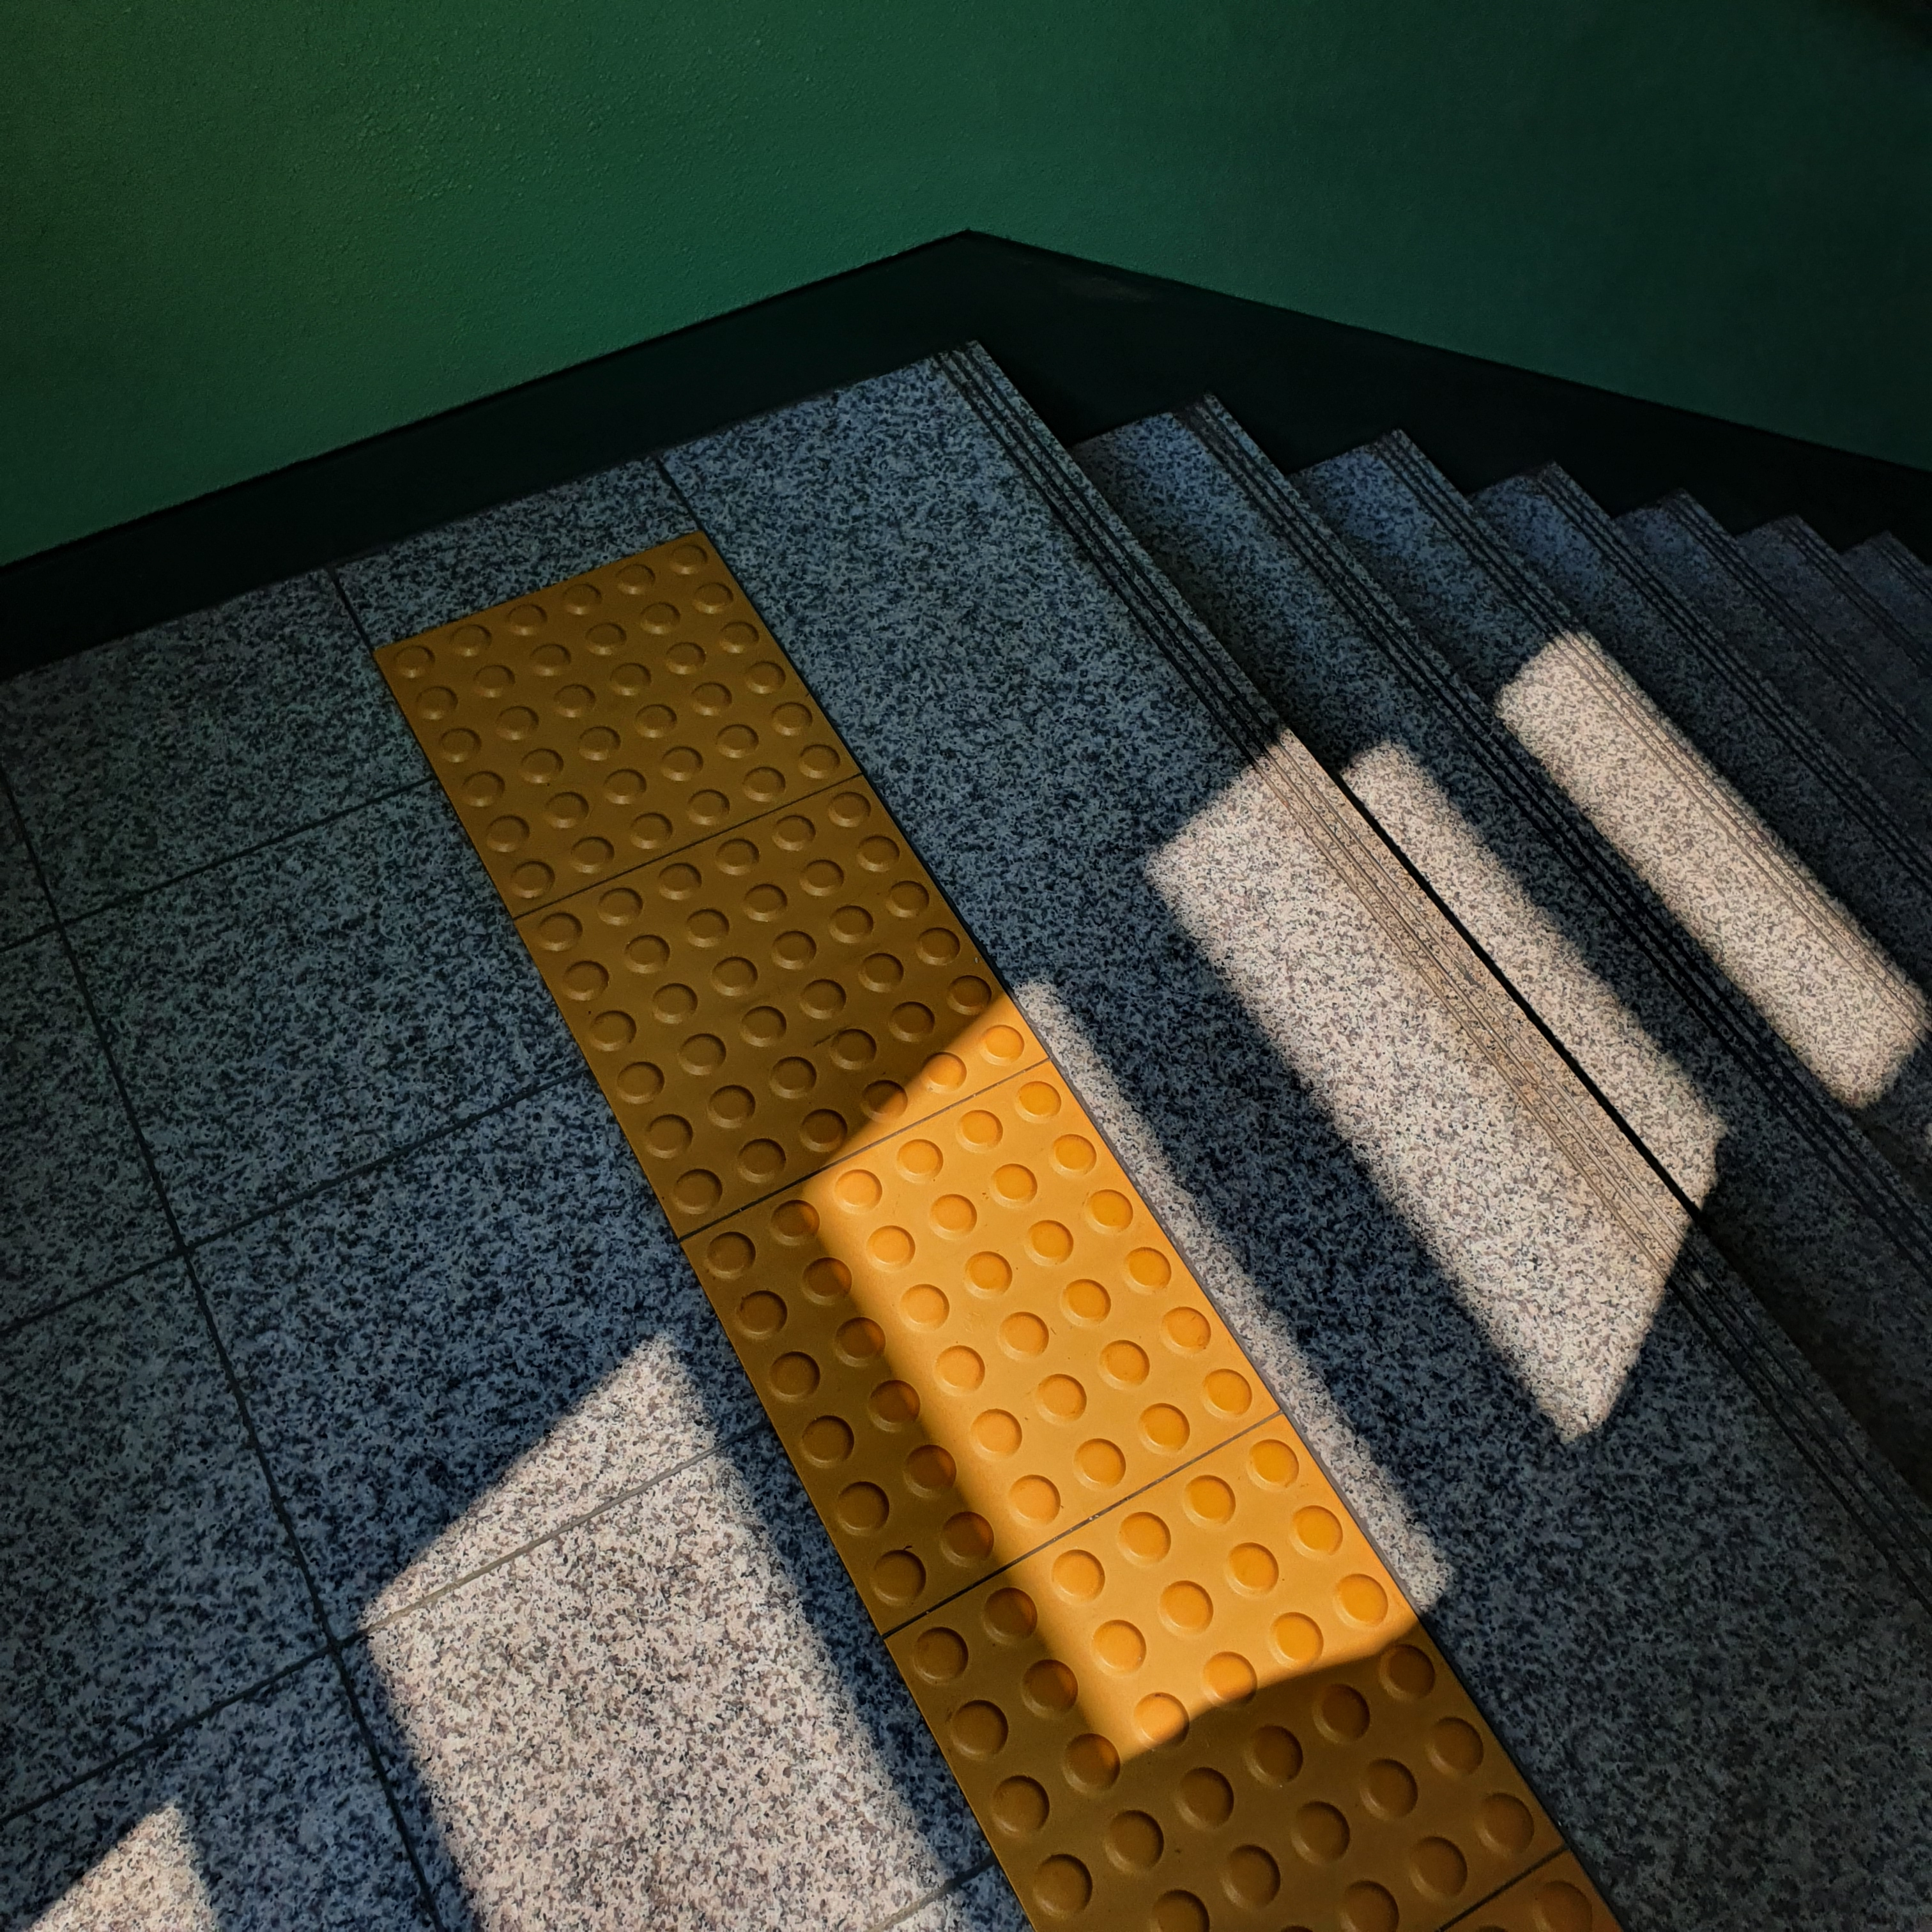warningBlock: (957, 1493, 1472, 1932), (709, 1104, 1194, 1518), (571, 812, 959, 1164), (446, 603, 796, 855)
